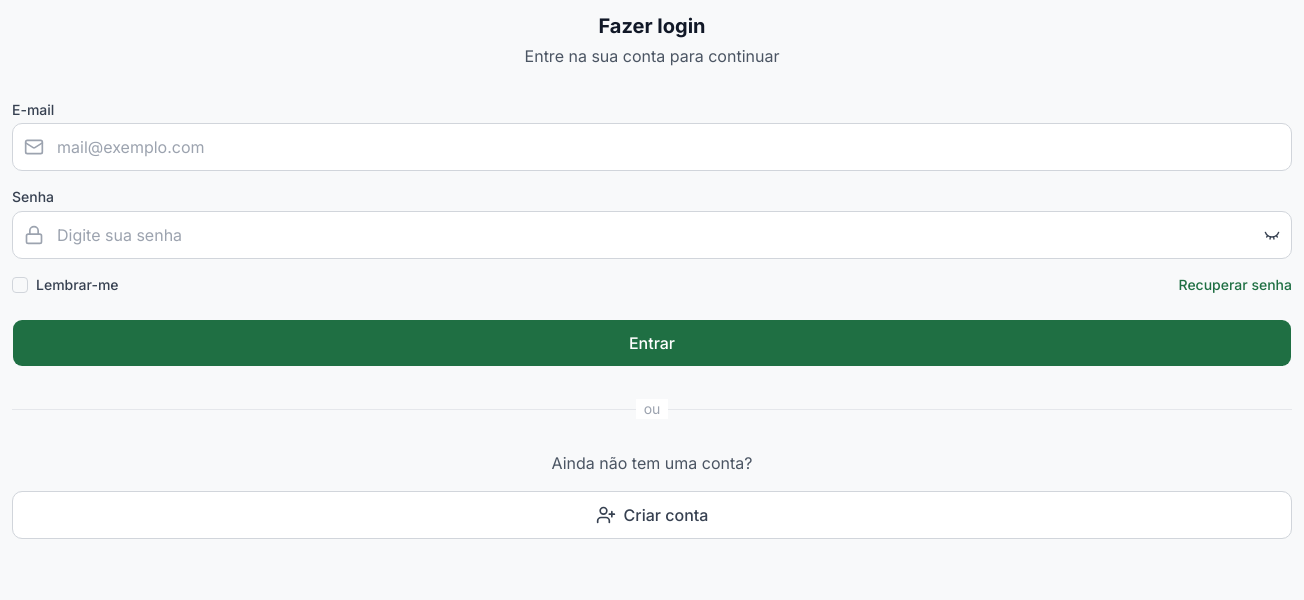
SignIn › requires the email
Click the button "Entrar" at (652, 342), box [12,318,1292,366]
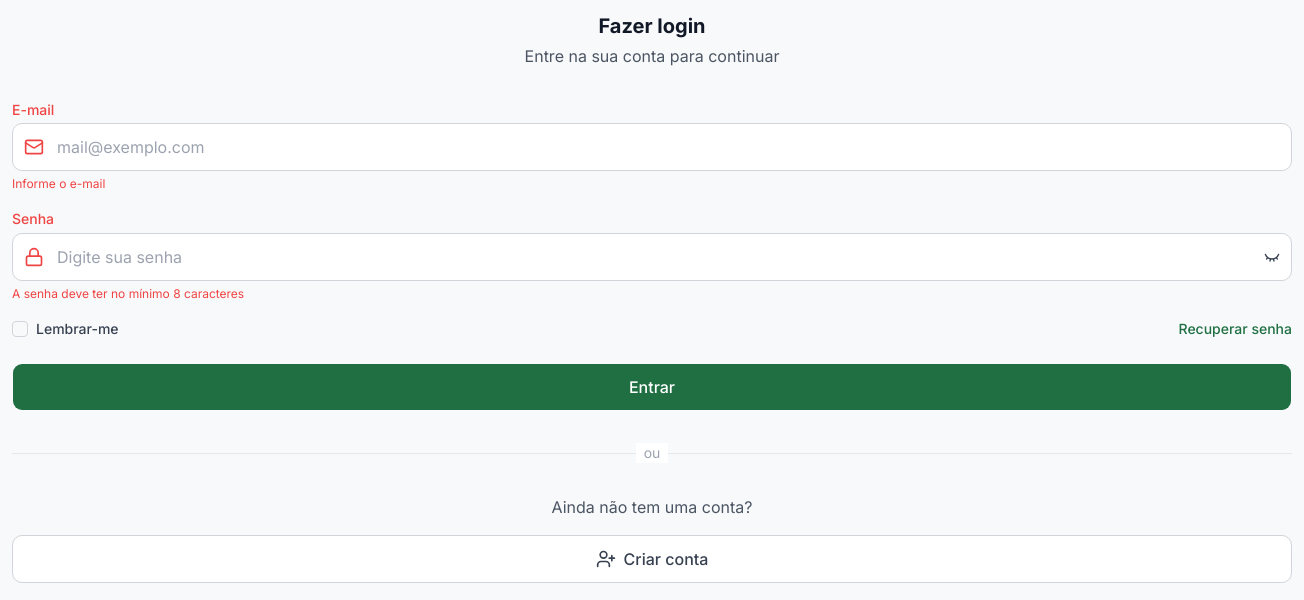
Now the text "Informe o e-mail" is shown, box [12,176,105,191]
